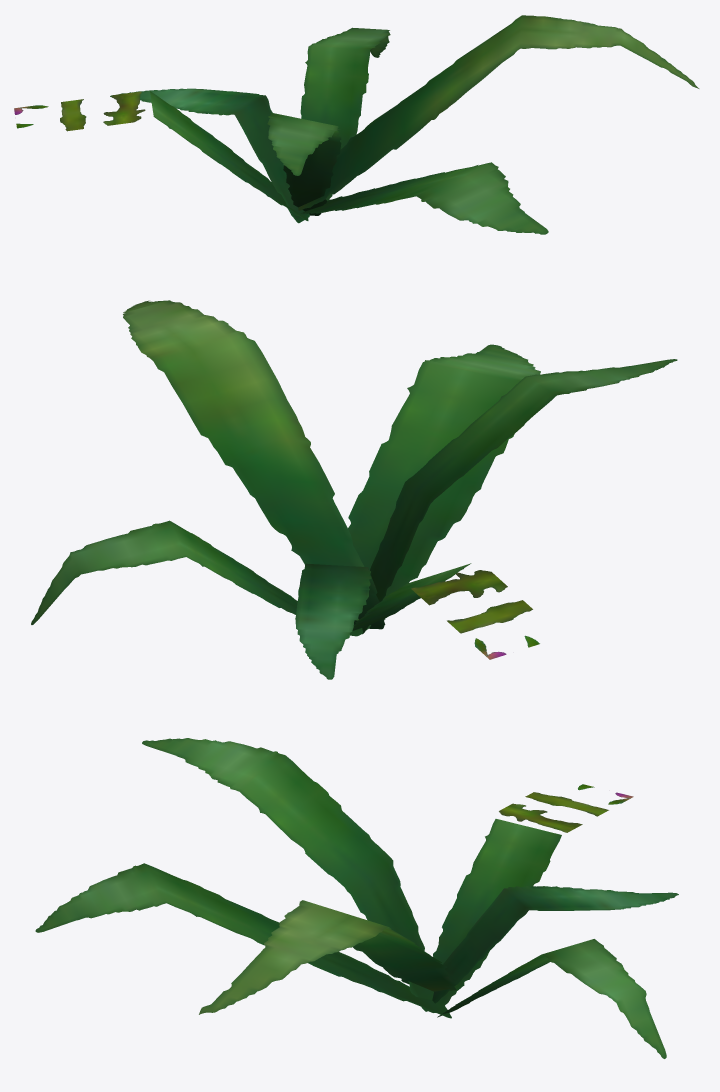
Rendered from cj_xinshou_cao04_53_38_8648out.fbx.
3 renders of one model, top to bottom at view 1: azimuth 30°, elevation 25°; view 2: azimuth 150°, elevation 25°; view 3: azimuth 270°, elevation 25°, orthographic. The views are drawn at different scales.
Visible parts, largest first — view 1: cj_xinshou_cao04; view 2: cj_xinshou_cao04; view 3: cj_xinshou_cao04.
Part boxes in pixels (bbox=[...]): cj_xinshou_cao04: bbox=[14, 15, 699, 234]; cj_xinshou_cao04: bbox=[31, 300, 677, 679]; cj_xinshou_cao04: bbox=[35, 738, 678, 1058].
Size of the model in its own units: 0.6756 by 0.2111 by 0.659.
